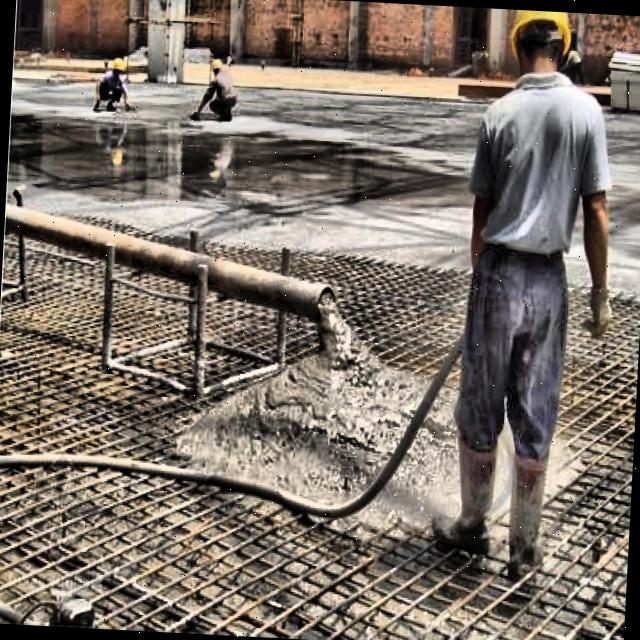helmet: (506, 12, 580, 88), (110, 52, 125, 80), (212, 52, 225, 82)
